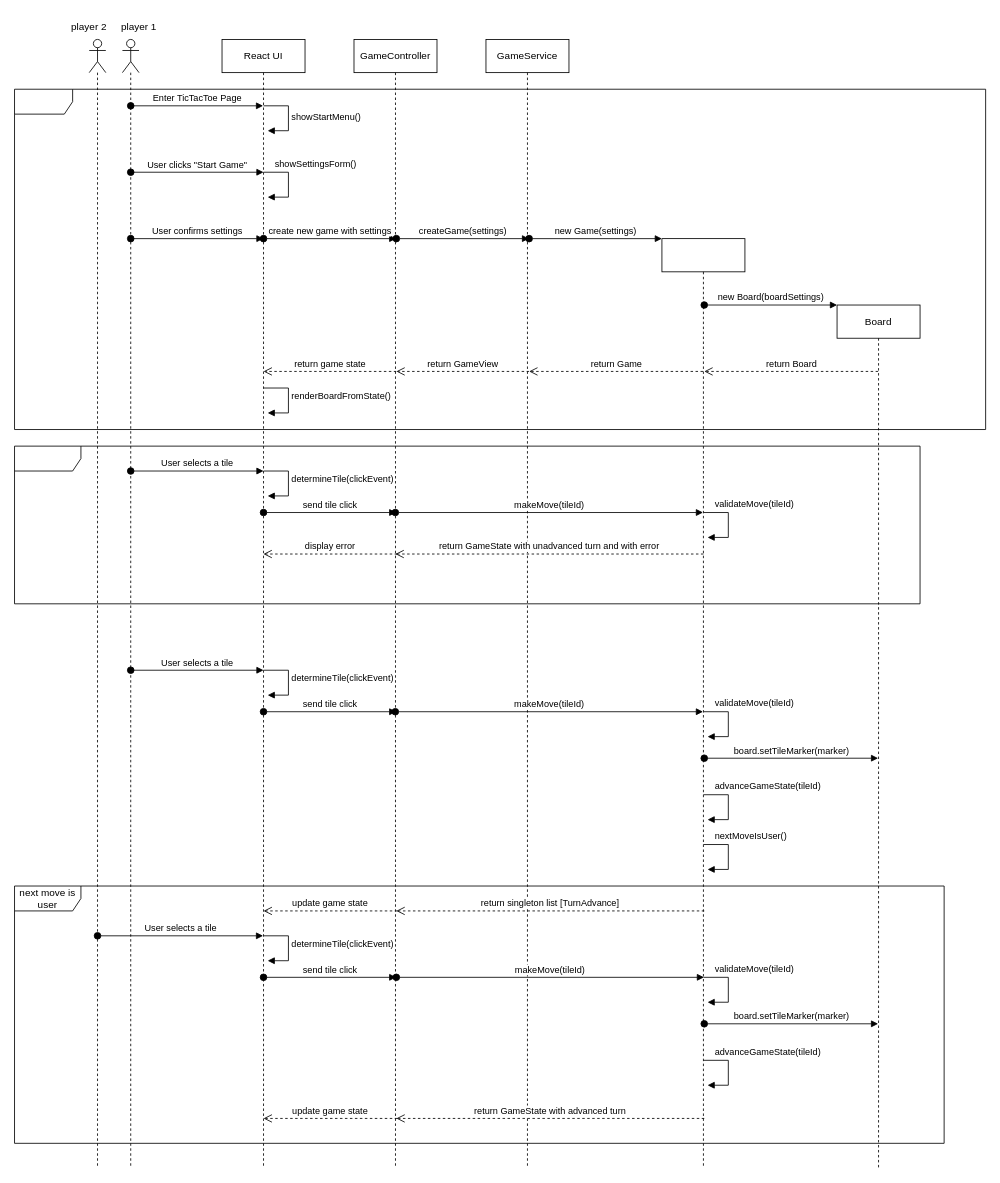
Image size: 1000x1183. Some labels were removed from this diagram. The box of each missing label's shape, as (x1, y1, x2, y2) in pixels:
Game: (661, 238, 745, 1168)
game start: (14, 88, 986, 430)
invalid move: (14, 445, 920, 604)
